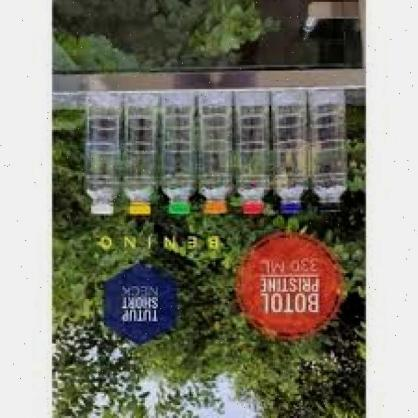bottle: (298, 73, 351, 220), (189, 90, 239, 214), (263, 81, 308, 214), (227, 92, 272, 222), (152, 89, 194, 221), (120, 94, 164, 218), (80, 84, 119, 216)
cap: (126, 194, 156, 218), (317, 194, 349, 216), (238, 194, 268, 216), (89, 195, 115, 218), (276, 196, 304, 217), (205, 194, 231, 212), (168, 200, 194, 216)
